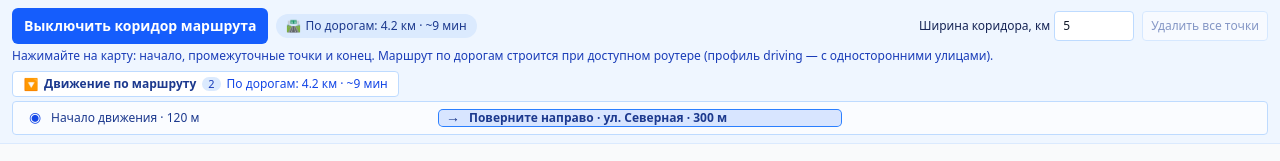
Test: RouteModePanel (R22) › stepsOpenRequest открывает вкладку маневров и подсвечивает активный шаг
Expected: the list with test id "route-steps" is shown, [12, 101, 1268, 135]
Expected: the list item with test id "route-step-active" shows "Северная", [594, 109, 684, 126]
// Пользователь всё ещё может закрыть вкладку вручную.
What coordinates should you click on to do the following:
click the button with test id "route-steps-toggle"
I would click on:
 (205, 84)
Its box is [12, 71, 399, 97].
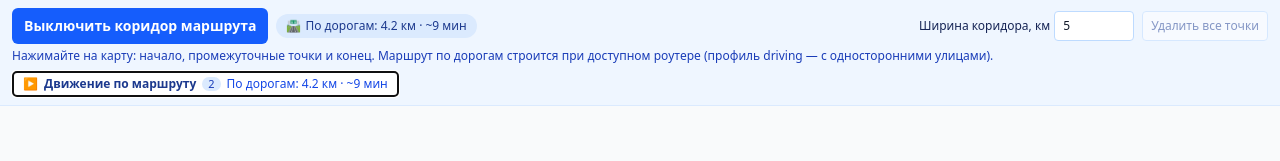
Now the list with test id "route-steps" is gone
